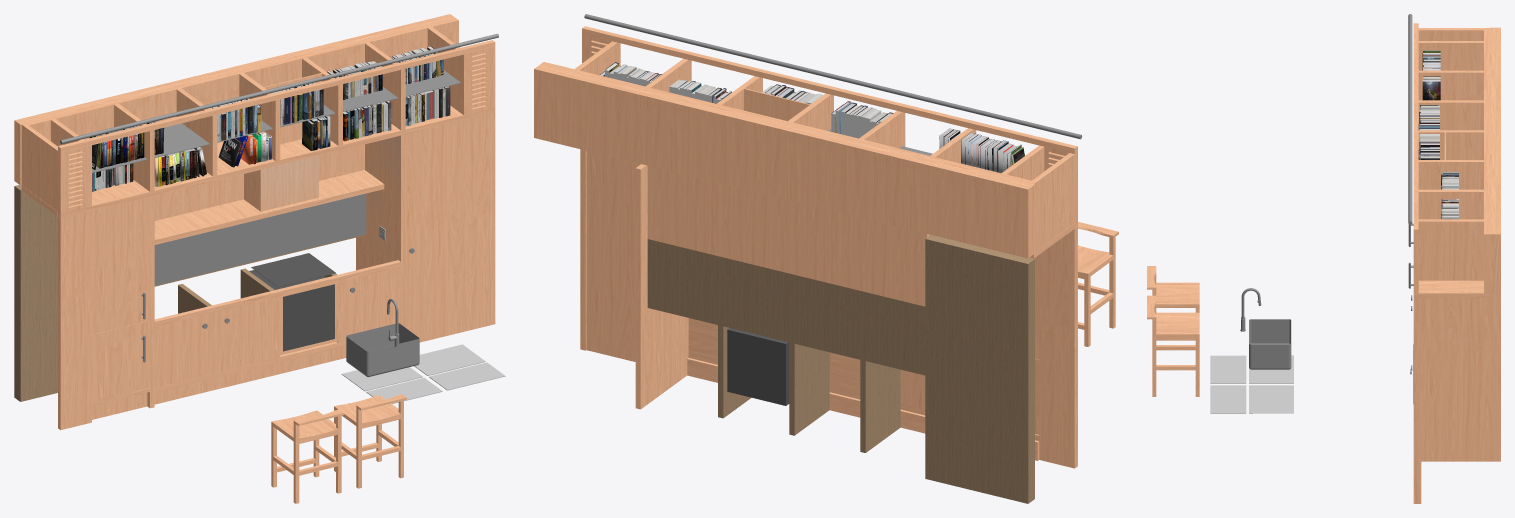
File: Kitchen.glb
3 renders of one model, left to right at view 1: azimuth 30°, elevation 25°; view 2: azimuth 150°, elevation 25°; view 3: azimuth 270°, elevation 25°, orthographic. The views are drawn at different scales.
Visible parts, largest first — view 1: Interior_Wood_Kitchen, Alumininum_1_Kitchen, Interior_Light_Wood_Kitchen, White_Prop_Kitchen, Twenty books, pCube1, Sixteen books, Books_30_A_Object, Books_30_B_Object, Books_30_C_Object, Books_30_D_Object, Books_40_C_Object (+3 smaller); view 2: Interior_Wood_Kitchen, Interior_Light_Wood_Kitchen, Alumininum_1_Kitchen, Twenty books, Books_30_C_Object, Books_40_C_Object, Books_40_D_Object; view 3: Interior_Wood_Kitchen, White_Prop_Kitchen, Alumininum_1_Kitchen, Twenty books, Books_30_D_Object, Books_30_C_Object.
Boxes of the visible parts, x1,y1,x2,y2 form: Interior_Wood_Kitchen: (14,14,495,503); Alumininum_1_Kitchen: (60,33,498,377); Interior_Light_Wood_Kitchen: (14,185,364,401); White_Prop_Kitchen: (341,226,505,403); Twenty books: (89,120,164,169); pCube1: (261,136,400,193); Sixteen books: (154,147,206,186); Books_30_A_Object: (343,101,391,141); Books_30_B_Object: (405,86,450,126); Books_30_C_Object: (209,98,261,141); Books_30_D_Object: (272,82,323,125); Books_40_C_Object: (327,61,382,99); Interior_Wood_Kitchen: (534,26,1118,468); Interior_Light_Wood_Kitchen: (647,235,1034,503); Alumininum_1_Kitchen: (584,14,1082,405); Twenty books: (939,128,1024,173); Books_30_C_Object: (831,101,893,138); Books_40_C_Object: (669,79,731,103); Books_40_D_Object: (600,62,661,86); Interior_Wood_Kitchen: (1147,23,1500,503); White_Prop_Kitchen: (1210,355,1293,413); Alumininum_1_Kitchen: (1240,14,1413,403); Twenty books: (1422,50,1440,100); Books_30_D_Object: (1418,134,1439,159); Books_30_C_Object: (1418,105,1439,130).
Size of the model in its own units: 1.88 by 1.2 by 1.36.
35 materials, 29 textured.
